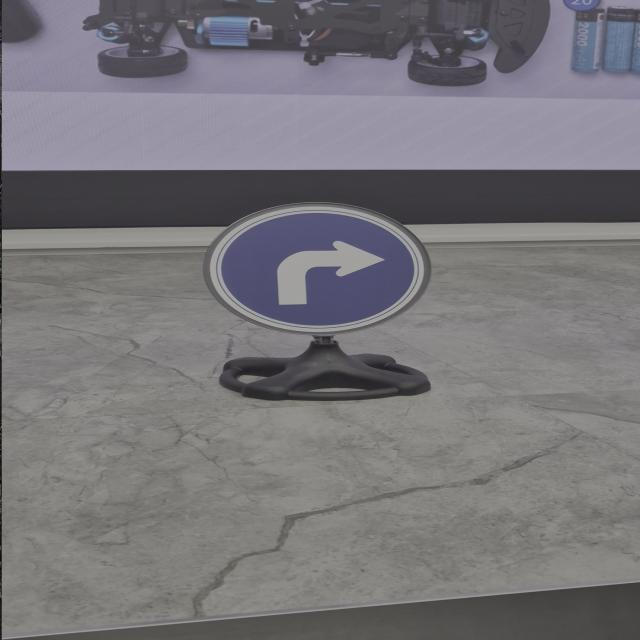right_dierection: (198, 200, 438, 337)
